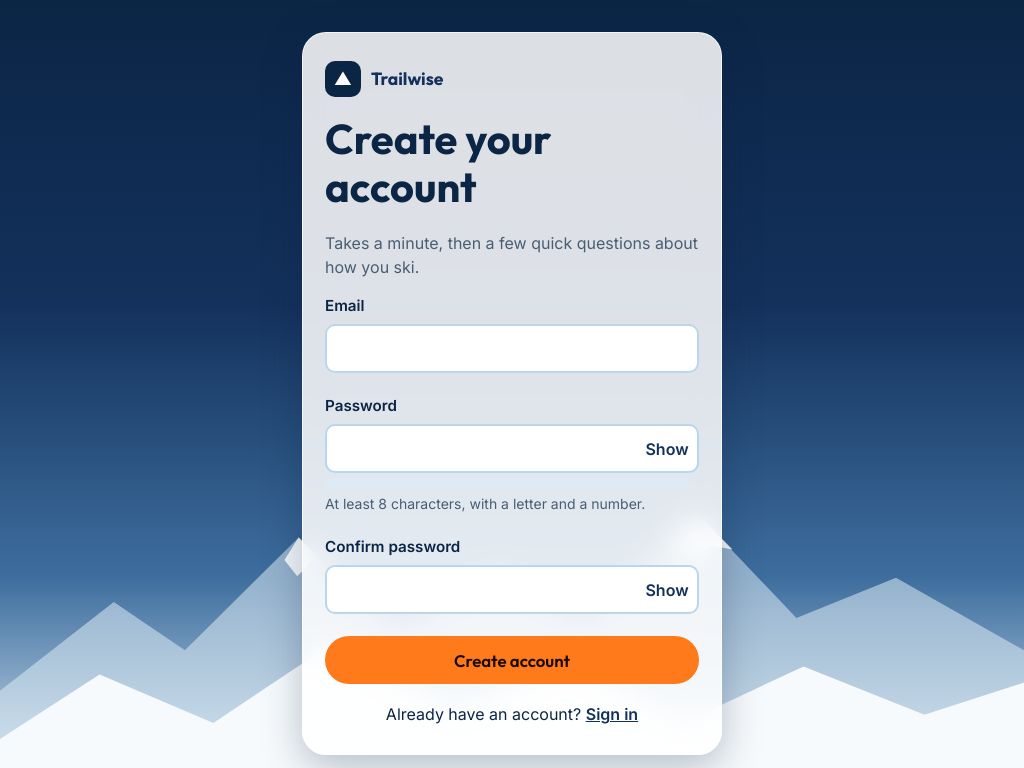
Test case: Sign up › creates an account and starts onboarding
The width and height of the screenshot is (1024, 768).
Expected: the heading "Create your account" is shown, x1=325 y1=112 x2=552 y2=213
In the field labelled "Email": {"x": 512, "y": 349} x1=325 y1=324 x2=699 y2=374, type "alex@example.com"
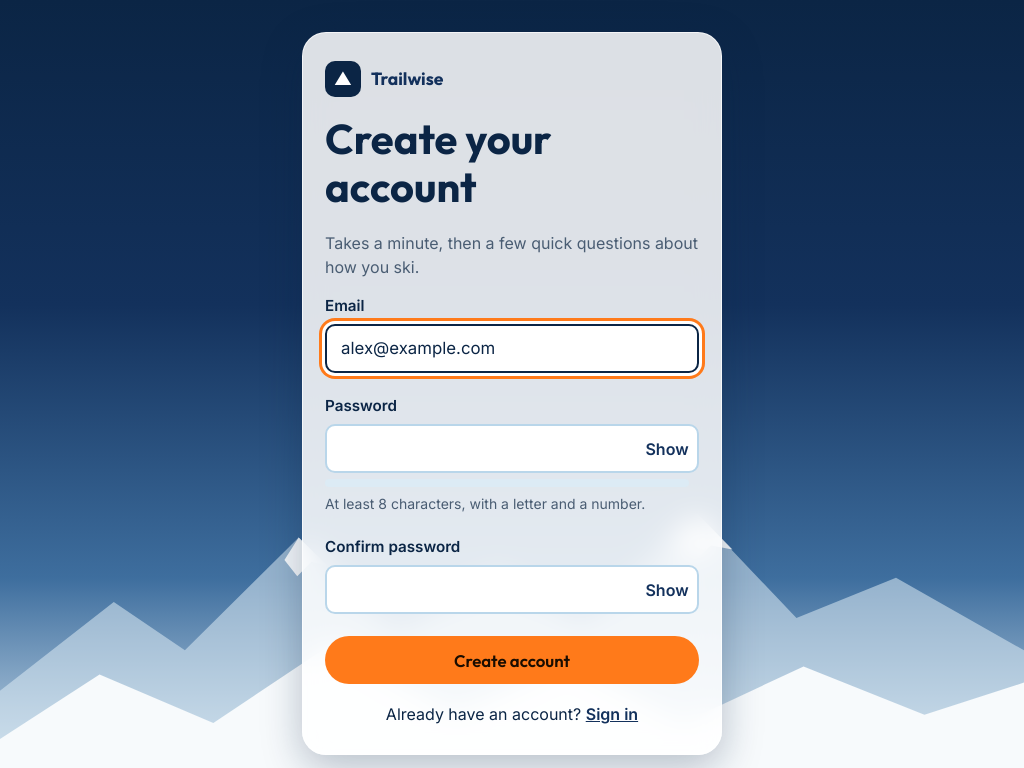
In the password field labelled "Password": {"x": 512, "y": 449} x1=325 y1=424 x2=699 y2=473, type "powder123"
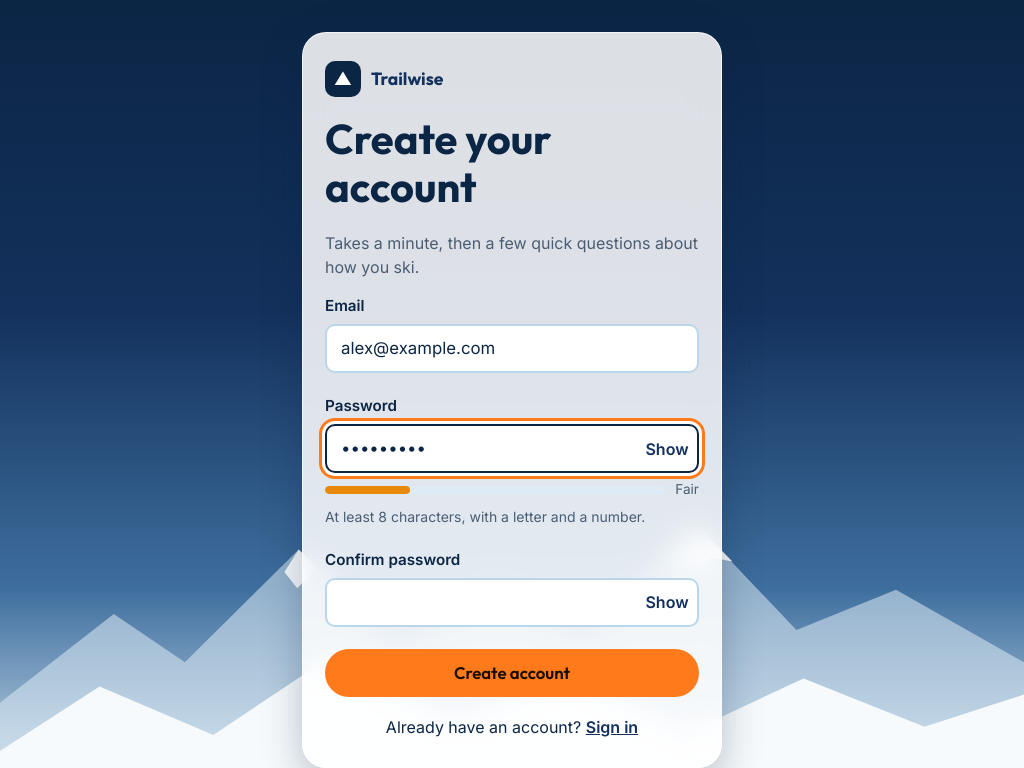
In the password field labelled "Confirm password": {"x": 512, "y": 602} x1=325 y1=578 x2=699 y2=627, type "powder123"
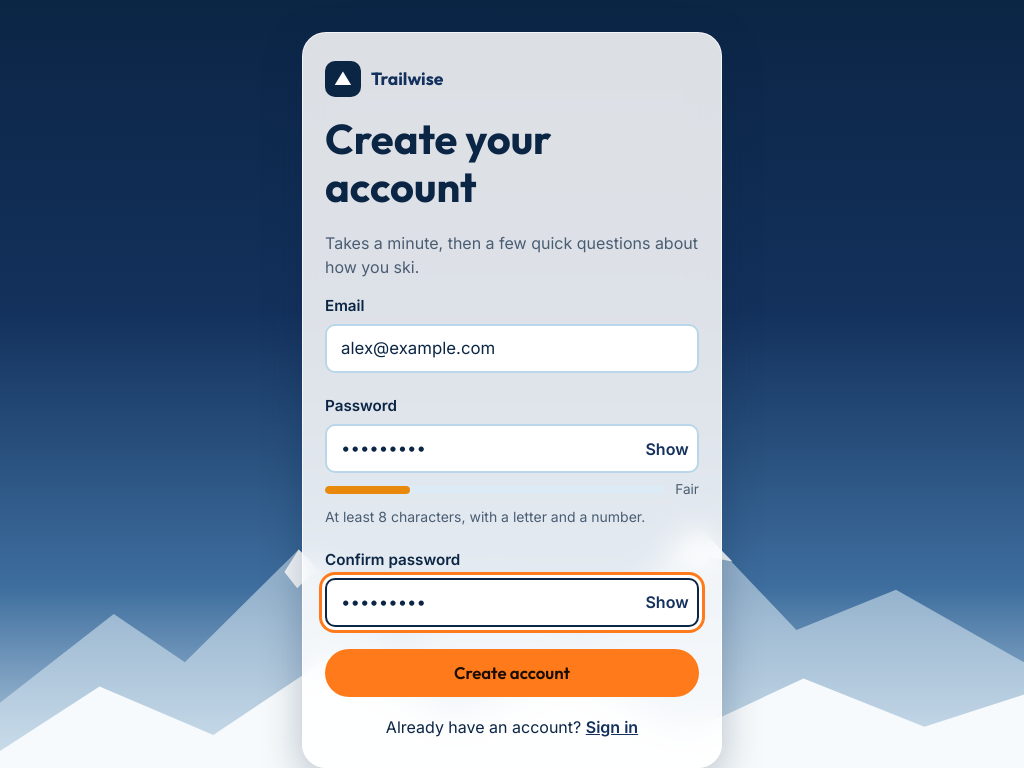
Click the button "Create account": {"x": 512, "y": 673} x1=325 y1=649 x2=699 y2=697
(page scrolled)
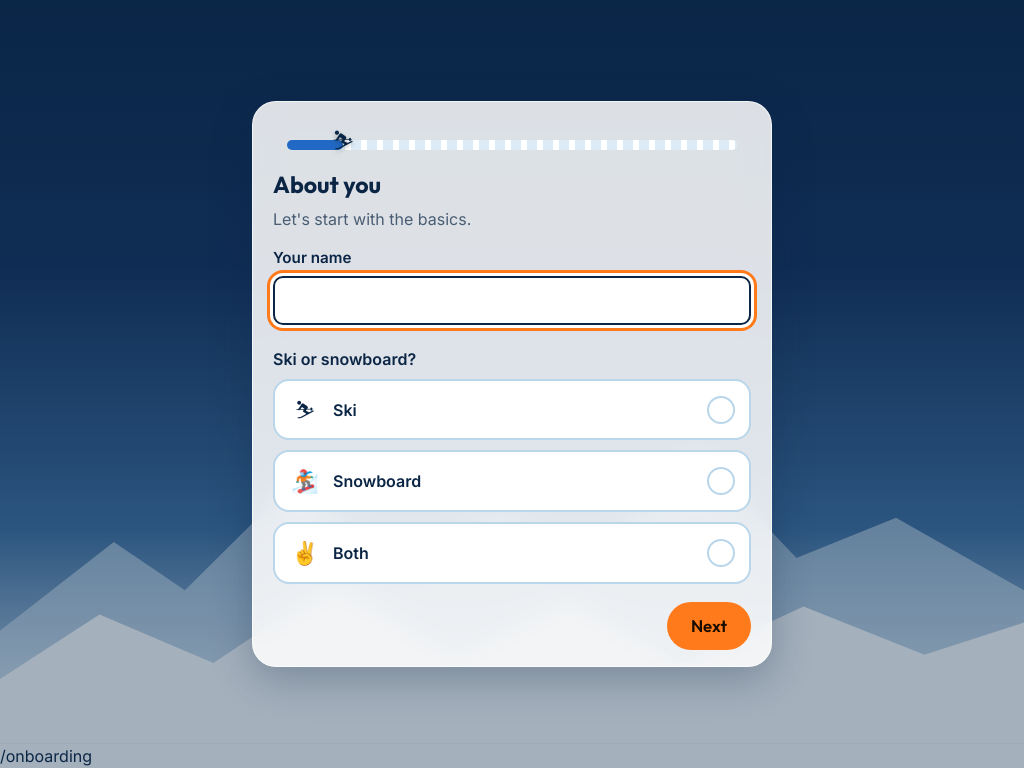
Expected: the text with test id "location" reads "/onboarding", x1=0 y1=746 x2=92 y2=766
